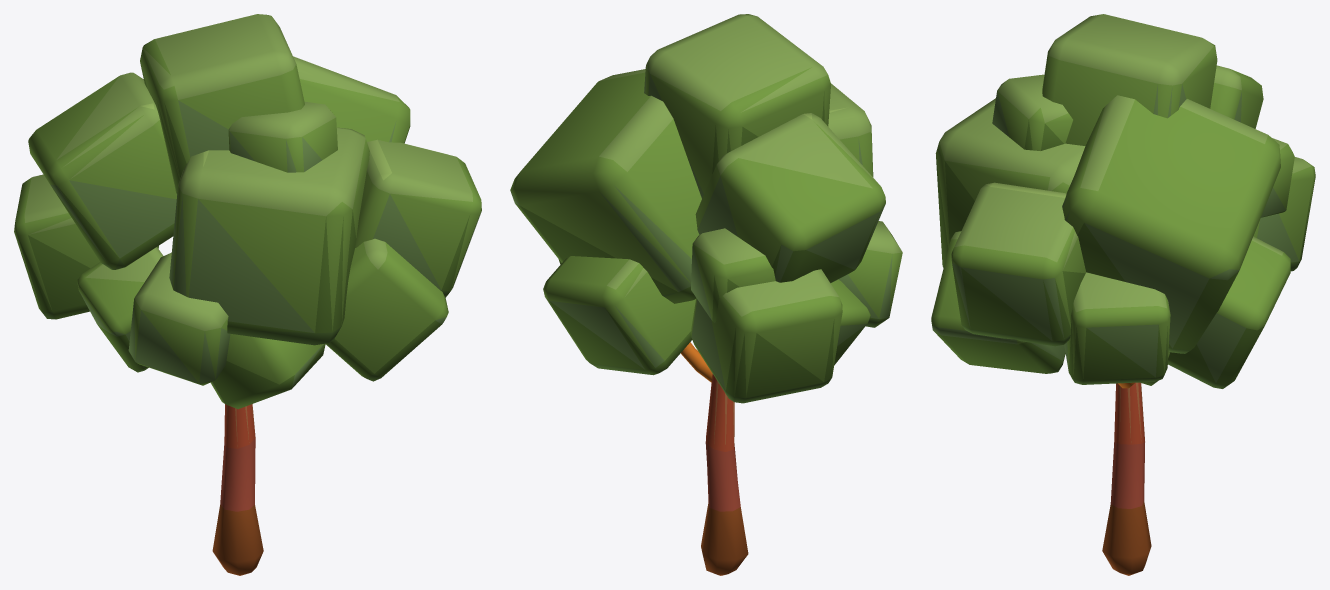
The model's file is itch_kaykit_forest_tree_2_e_color1.glb.
3 views of the same model, side by side, from view 1: azimuth 30°, elevation 25°; view 2: azimuth 150°, elevation 25°; view 3: azimuth 270°, elevation 25° (orthographic).
Visible parts, largest first — view 1: Tree_2_E_Color1; view 2: Tree_2_E_Color1; view 3: Tree_2_E_Color1.
Part boxes in pixels (box(x1,y1,x2,y2)): Tree_2_E_Color1: box(14, 14, 481, 575); Tree_2_E_Color1: box(510, 14, 902, 575); Tree_2_E_Color1: box(931, 14, 1315, 575).
Size of the model in its own units: 1.22 by 1.77 by 1.14.
